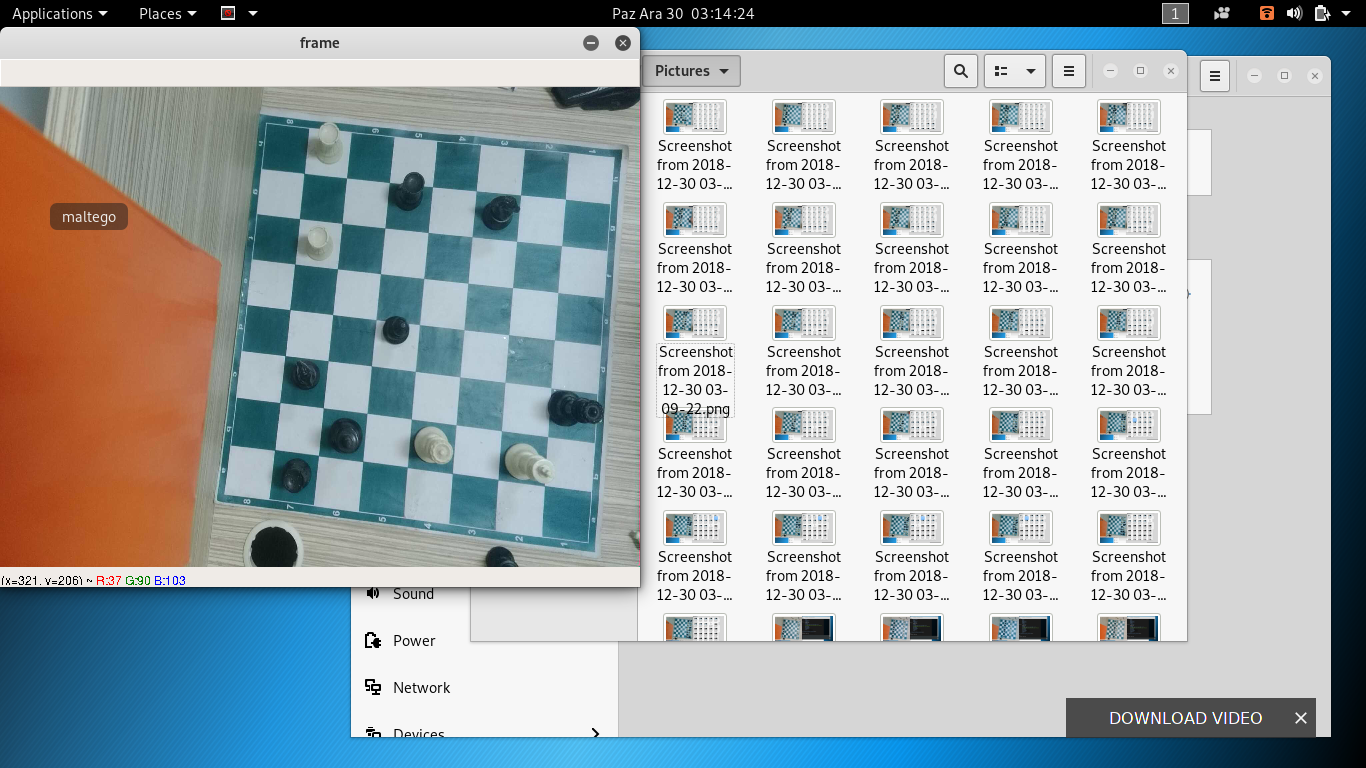BeyazSah: (504, 444, 556, 484)
BeyazVezir: (411, 427, 455, 468)
SiyahSah: (326, 419, 362, 457)
SiyahVezir: (545, 390, 604, 428)
